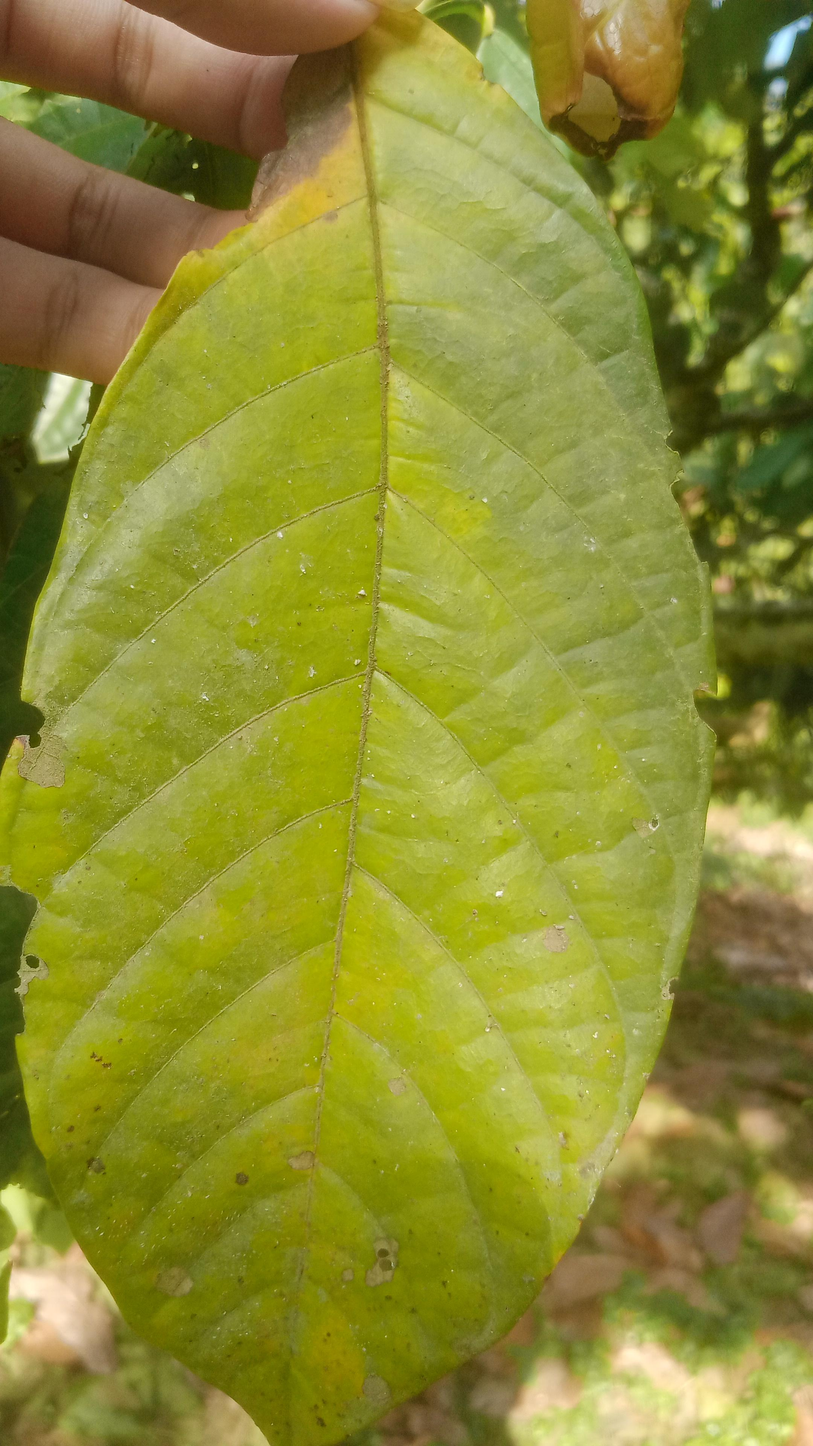deficiencia_potasio: (0, 11, 708, 1446)
